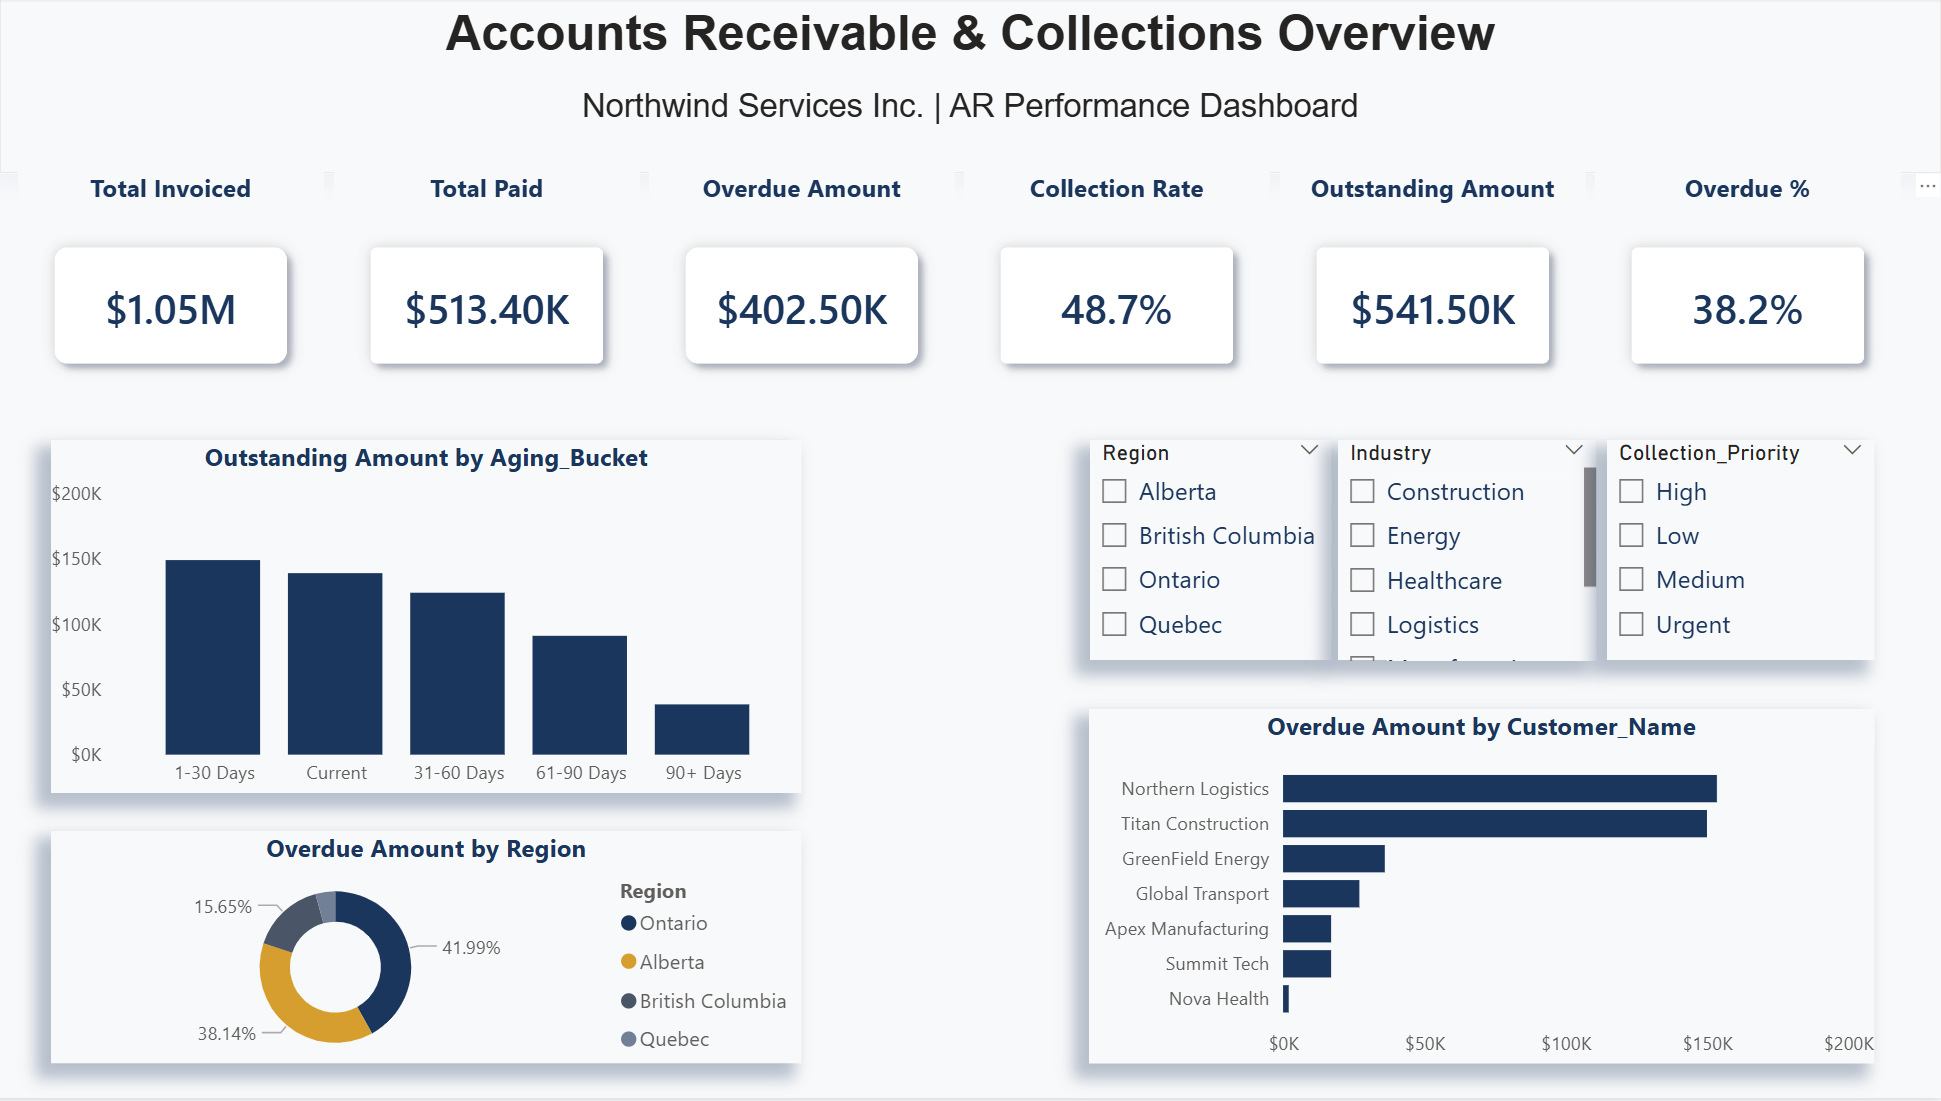

The page's visual inventory and layout, read from the dashboard file:
{"tool":"powerbi","page":{"name":"AR Overview","canvas":[1280,720],"ordinal":0},"visuals":[{"type":"textbox","box":[10,0,1270,114.8],"z":0},{"type":"cardVisual","title":"Total Invoiced","fields":{"Data":["AR_Invoices.Total Invoiced"]},"box":[21.9,113,200,150],"z":1000},{"type":"cardVisual","title":"Total Paid","fields":{"Data":["AR_Invoices.Total Paid"]},"box":[228.2,113,200,150],"z":2000},{"type":"clusteredColumnChart","fields":{"Category":["AR_Invoices.Aging_Bucket"],"Y":["AR_Invoices.Outstanding Amount"]},"box":[43.4,289,491.2,230.9],"z":3000},{"type":"cardVisual","title":"Outstanding Amount","fields":{"Data":["AR_Invoices.Outstanding Amount"]},"box":[847.3,113,200,150],"z":4000},{"type":"clusteredBarChart","fields":{"Category":["AR_Invoices.Customer_Name"],"Y":["AR_Invoices.Overdue Amount"]},"box":[722.8,465.2,513.9,232.2],"z":5000},{"type":"cardVisual","title":"Overdue Amount","fields":{"Data":["AR_Invoices.Overdue Amount"]},"box":[434.6,113,200,150],"z":6000},{"type":"donutChart","fields":{"Category":["AR_Invoices.Region"],"Y":["AR_Invoices.Overdue Amount"]},"box":[43.4,545.2,491.2,152.2],"z":7000},{"type":"cardVisual","title":"Collection Rate","fields":{"Data":["AR_Invoices.Collection Rate"]},"box":[641,113,200,150],"z":8000},{"type":"slicer","fields":{"Values":["AR_Invoices.Region"]},"box":[722.9,289,157.8,144.3],"z":9000},{"type":"cardVisual","title":"Overdue %","fields":{"Data":["AR_Invoices.Overdue %"]},"box":[1053.7,113,200,150],"z":10000},{"type":"slicer","fields":{"Values":["AR_Invoices.Industry"]},"box":[885.4,289,168.6,144.3],"z":11000},{"type":"slicer","fields":{"Values":["AR_Invoices.Collection_Priority"]},"box":[1061.4,289,174.7,144.3],"z":12000}]}

Visuals, with their boxes in screenshot pixels (x1, y1, x2, y2), scaled from the page's 1280x720 canvas onto the 1941x1101 screenshot:
textbox: [15, 0, 1940, 176]
"Total Invoiced" cardVisual: [33, 173, 336, 402]
"Total Paid" cardVisual: [346, 173, 649, 402]
clusteredColumnChart - AR_Invoices.Aging_Bucket x AR_Invoices.Outstanding Amount: [66, 442, 811, 795]
"Outstanding Amount" cardVisual: [1285, 173, 1588, 402]
clusteredBarChart - AR_Invoices.Customer_Name x AR_Invoices.Overdue Amount: [1096, 711, 1875, 1066]
"Overdue Amount" cardVisual: [659, 173, 962, 402]
donutChart - AR_Invoices.Region x AR_Invoices.Overdue Amount: [66, 834, 811, 1066]
"Collection Rate" cardVisual: [972, 173, 1275, 402]
slicer - AR_Invoices.Region: [1096, 442, 1335, 663]
"Overdue %" cardVisual: [1598, 173, 1901, 402]
slicer - AR_Invoices.Industry: [1343, 442, 1598, 663]
slicer - AR_Invoices.Collection_Priority: [1610, 442, 1874, 663]
